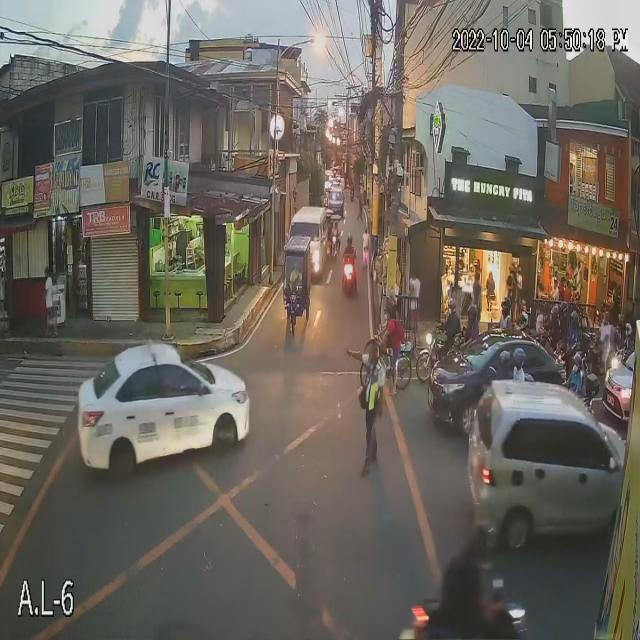helmet: (466, 517, 499, 559), (594, 308, 617, 331), (616, 319, 636, 345), (554, 294, 573, 320), (495, 345, 511, 374), (548, 299, 562, 332), (567, 309, 587, 332), (572, 347, 588, 374), (514, 345, 529, 373), (464, 304, 482, 326), (514, 310, 532, 331), (495, 293, 512, 315), (445, 296, 461, 315), (344, 231, 355, 246)
motorcycle: (412, 576, 530, 640), (412, 329, 458, 388), (334, 257, 360, 298)
rider: (429, 517, 511, 625), (513, 341, 538, 395), (437, 296, 464, 343), (490, 293, 516, 338), (564, 349, 588, 396), (561, 309, 588, 350), (493, 345, 513, 392), (546, 300, 564, 350), (594, 304, 611, 348), (462, 301, 480, 341), (341, 231, 357, 273), (622, 313, 638, 355), (512, 309, 530, 343), (558, 295, 572, 334)
